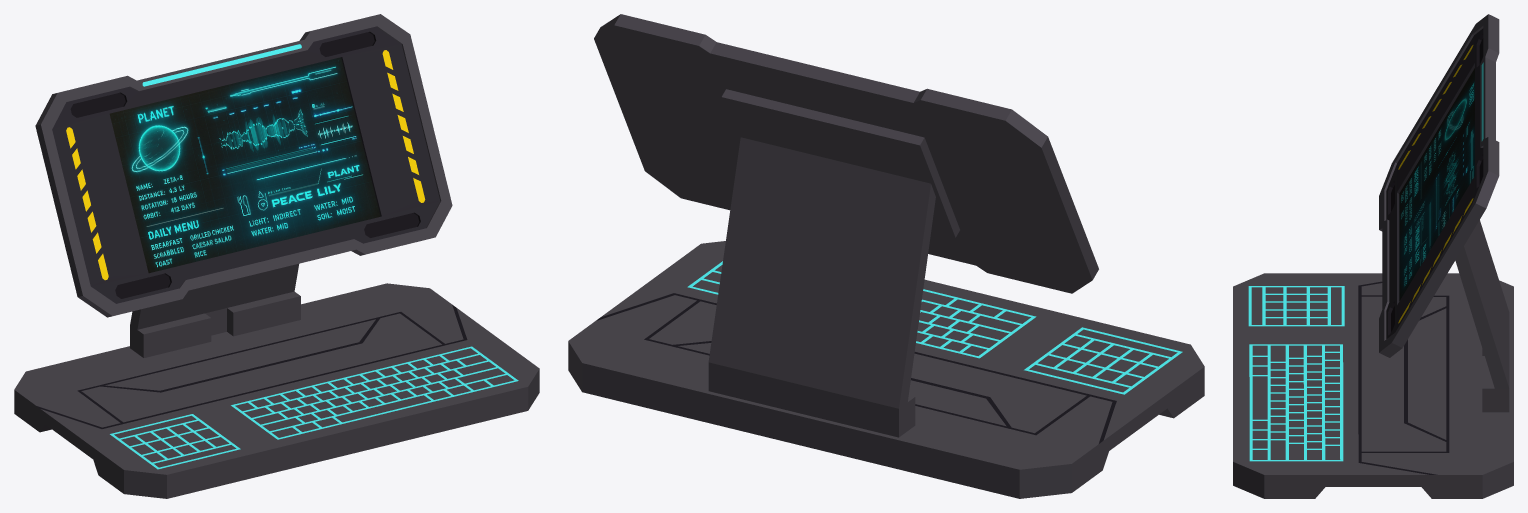
The model's file is SM_Props_Device_07.fbx.
3 views of the same model, side by side, from view 1: azimuth 30°, elevation 25°; view 2: azimuth 150°, elevation 25°; view 3: azimuth 270°, elevation 25° (orthographic). The views are drawn at different scales.
Visible parts, largest first — view 1: SM_Props_Device_07; view 2: SM_Props_Device_07; view 3: SM_Props_Device_07.
Boxes of the visible parts, x1,y1,x2,y2 form: SM_Props_Device_07: (14, 14, 539, 498); SM_Props_Device_07: (568, 14, 1204, 498); SM_Props_Device_07: (1233, 14, 1513, 498).
Size of the model in its own units: 0.45 by 0.318 by 0.2647.
